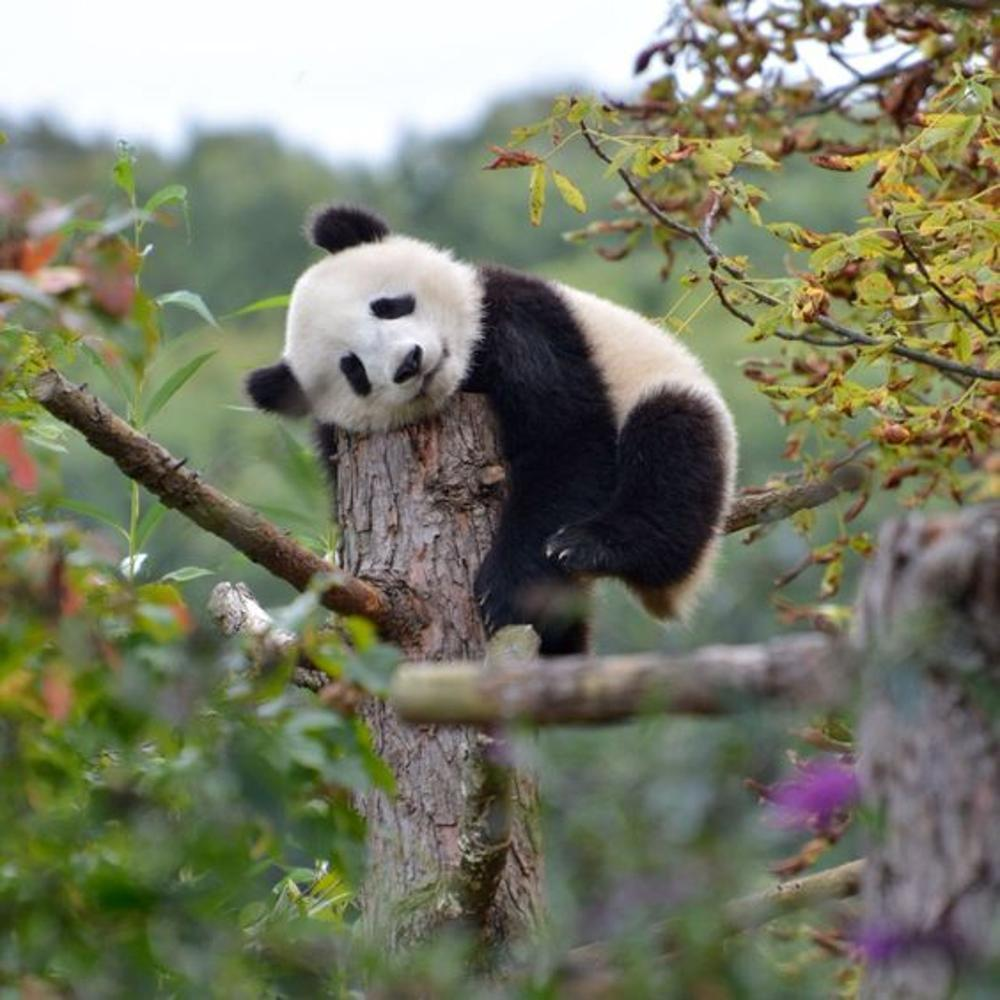panda: (236, 196, 747, 666)
